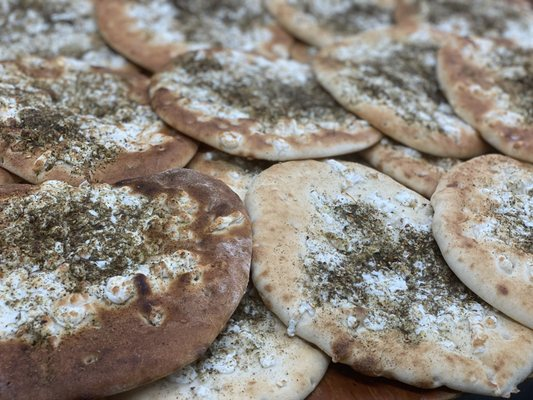sandwich: (2, 1, 529, 400), (248, 159, 532, 394), (0, 169, 254, 399), (147, 44, 381, 162), (430, 154, 533, 333)
